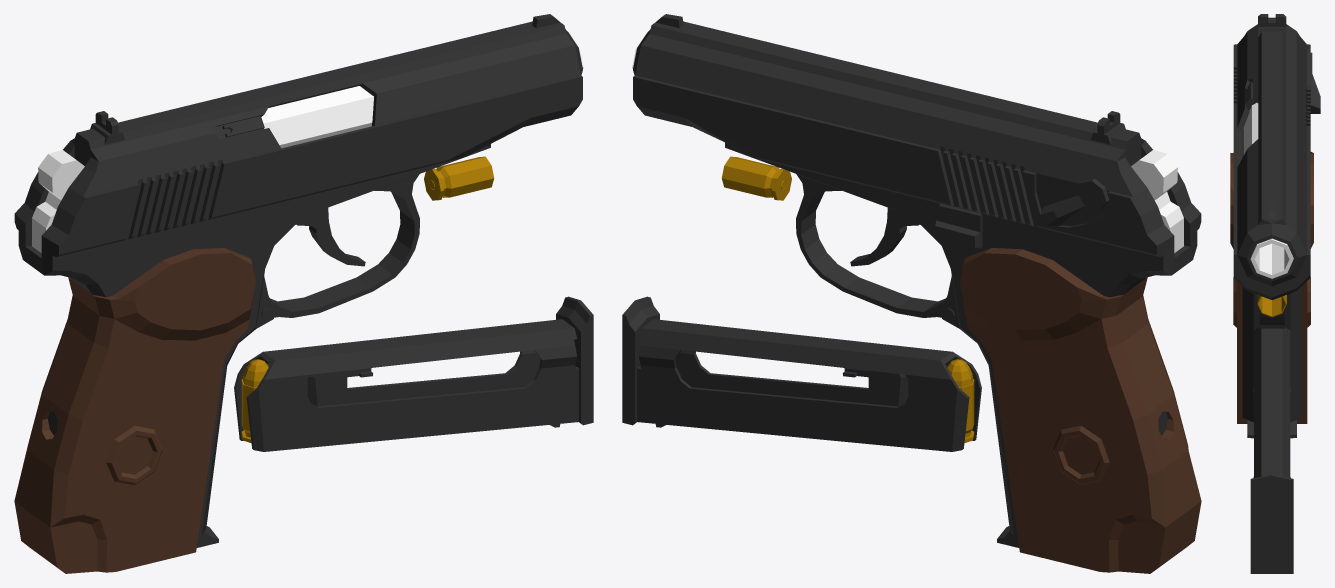
File: low-poly_pm_makarov.glb
3 views of the same model, side by side, from view 1: azimuth 30°, elevation 25°; view 2: azimuth 150°, elevation 25°; view 3: azimuth 270°, elevation 25° (orthographic). The views are drawn at different scales.
Visible parts, largest first — view 1: gun_5, bolt_3, 918 mag_2, hammer_6, Object_4, triga_8; view 2: gun_5, bolt_3, 918 mag_2, hammer_6, Object_4, save_4, triga_8; view 3: bolt_3, 918 mag_2, gun_5, save_4, Object_4, 918 mag empty_1.
Part boxes in pixels (x1=…): gun_5: x1=14, y1=36, x2=583, y2=573; bolt_3: x1=14, y1=14, x2=582, y2=256; 918 mag_2: x1=234, y1=296, x2=593, y2=451; hammer_6: x1=32, y1=150, x2=84, y2=252; Object_4: x1=424, y1=156, x2=494, y2=200; triga_8: x1=296, y1=207, x2=365, y2=266; gun_5: x1=632, y1=36, x2=1201, y2=573; bolt_3: x1=633, y1=14, x2=1201, y2=256; 918 mag_2: x1=622, y1=296, x2=981, y2=451; hammer_6: x1=1131, y1=150, x2=1183, y2=252; Object_4: x1=721, y1=156, x2=791, y2=200; save_4: x1=1040, y1=178, x2=1109, y2=226; triga_8: x1=850, y1=207, x2=919, y2=266; bolt_3: x1=1233, y1=14, x2=1310, y2=299; 918 mag_2: x1=1250, y1=327, x2=1293, y2=573; gun_5: x1=1230, y1=102, x2=1313, y2=423; save_4: x1=1307, y1=52, x2=1320, y2=113; Object_4: x1=1257, y1=295, x2=1286, y2=317; 918 mag empty_1: x1=1247, y1=420, x2=1296, y2=438.
Bounding box in the file's own units: 1.85 × 1.43 × 0.3048.
